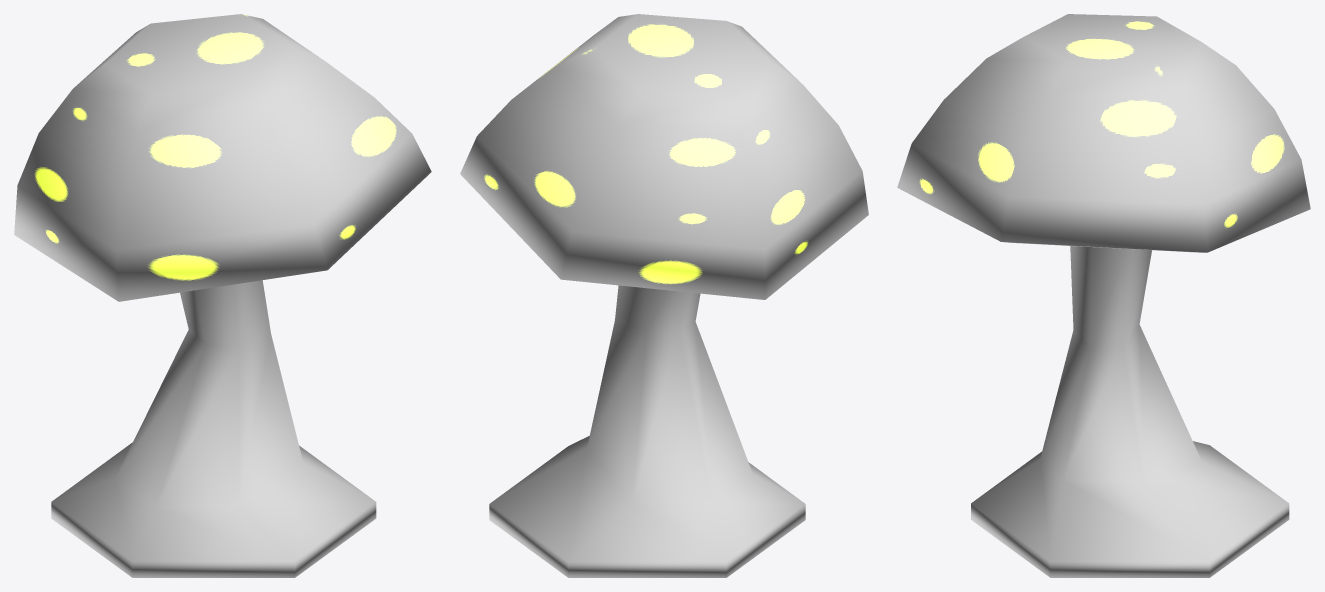
File: HH_MushroomMedium_AT.fbx
3 renders of one model, left to right at view 1: azimuth 30°, elevation 25°; view 2: azimuth 150°, elevation 25°; view 3: azimuth 270°, elevation 25°, orthographic. The views are drawn at different scales.
Parts seen in each view (by area): view 1: mushMed; view 2: mushMed; view 3: mushMed.
Boxes of the visible parts, x1,y1,x2,y2 form: mushMed: (14, 14, 431, 577); mushMed: (460, 14, 868, 577); mushMed: (897, 14, 1310, 577).
Bounding box in the file's own units: 184 × 272 × 214.
